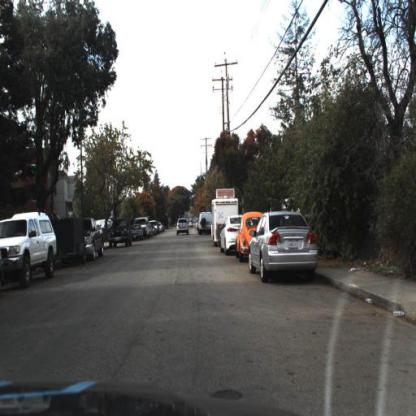car: (247, 208, 325, 287), (249, 213, 321, 283), (1, 214, 60, 289), (235, 210, 267, 266), (235, 210, 263, 265), (74, 219, 107, 261), (109, 219, 134, 250), (176, 217, 193, 238)
